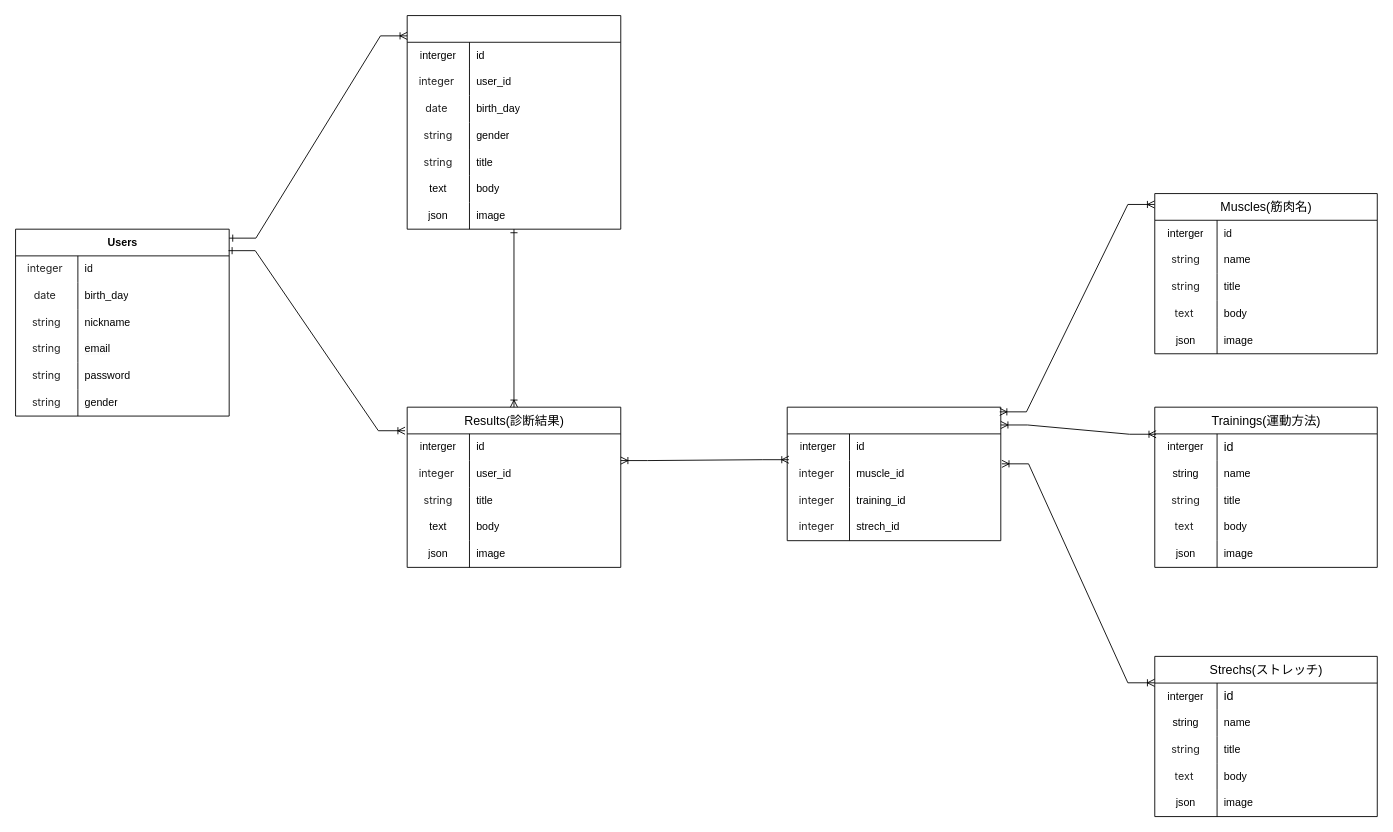
Some shapes in this 1393 by 832 pixel diagram are drawn without their labels. The box of each missing label's shape, as (x1, y1, x2, y2) in pixels:
Diagnosis(診断): (406, 15, 621, 229)
Results_ tags: (786, 406, 1001, 541)
